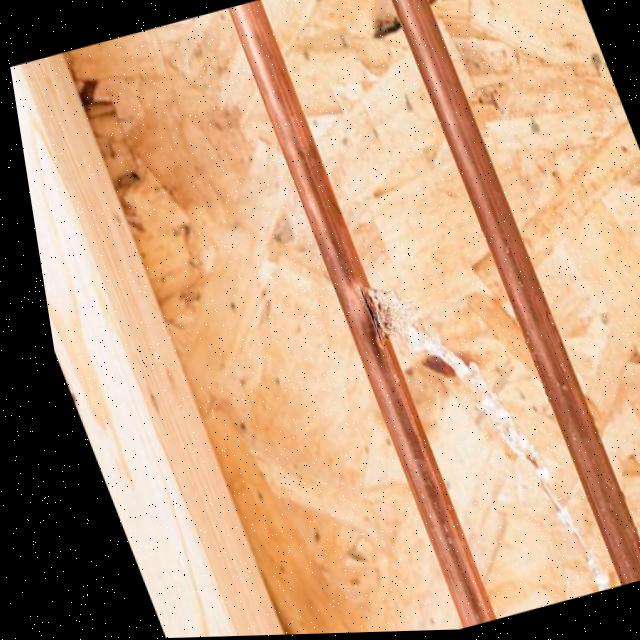rupture: (348, 280, 384, 357)
